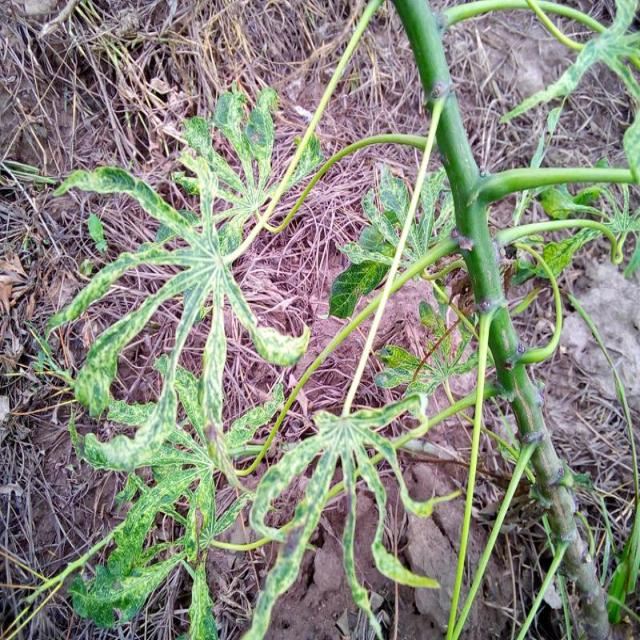cassava leaf: (25, 1, 638, 638), (46, 80, 325, 485)
